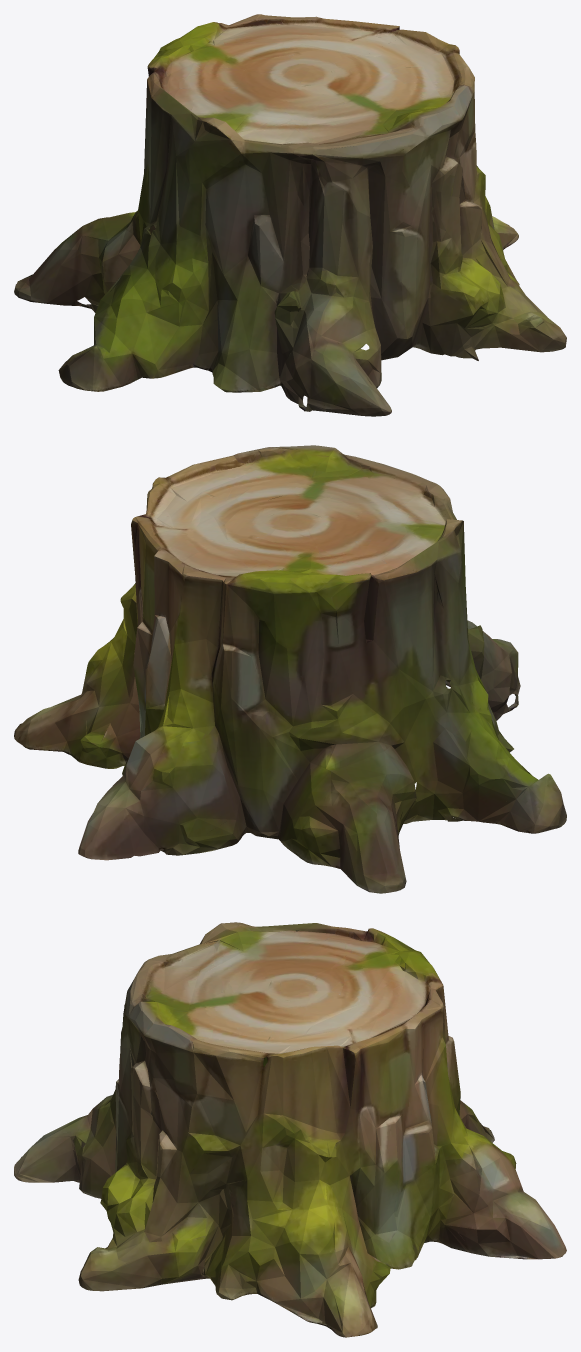
Rendered from stump.glb.
3 renders of one model, top to bottom at view 1: azimuth 30°, elevation 25°; view 2: azimuth 150°, elevation 25°; view 3: azimuth 270°, elevation 25°, orthographic. The views are drawn at different scales.
Visible parts, largest first — view 1: world; view 2: world; view 3: world.
Boxes of the visible parts, <box> form: world: <box>14,14,566,416</box>; world: <box>14,445,566,893</box>; world: <box>14,922,566,1337</box>.
Size of the model in its own units: 0.9967 by 0.487 by 0.9936.
1 material, 1 textured.
